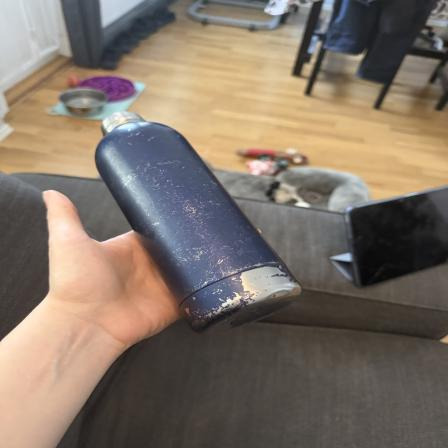blue_bottle: (95, 107, 307, 335)
